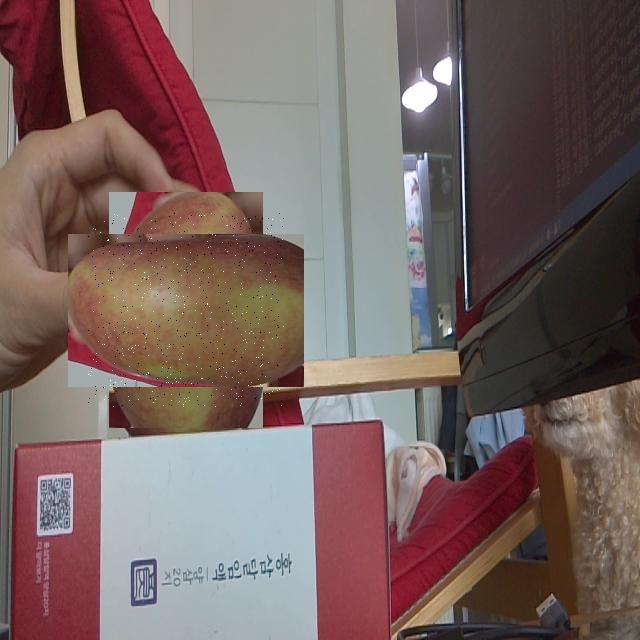apple: (88, 213, 284, 407)
